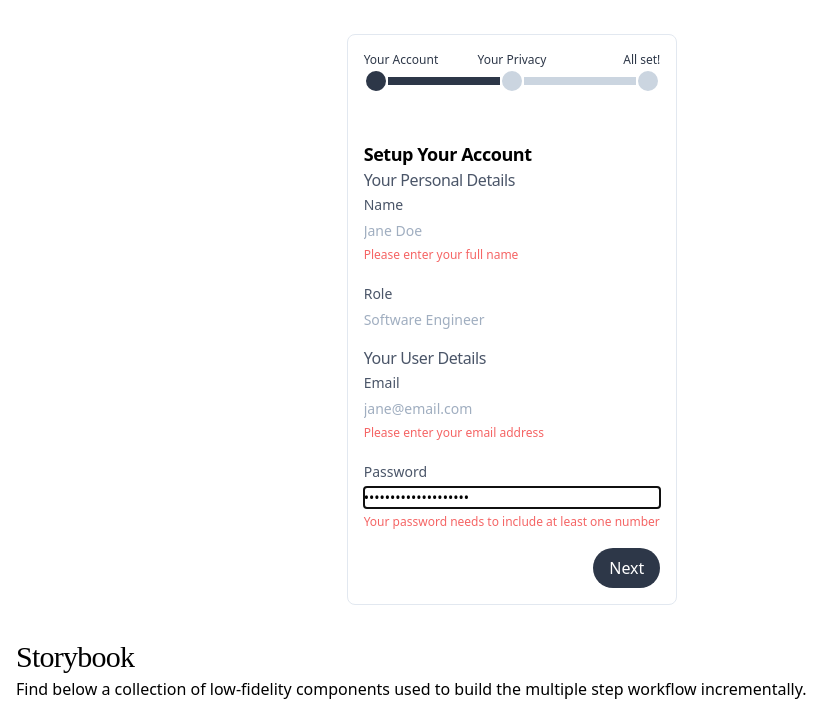
Signup Workflow › When the user provides invalid information › When they attempt to choose a password › that is missing at least one uppercase and one lowercase
(page scrolled)
Type "a very long password1" into the password field labelled "Password Your password needs to include at least one number".
click(513, 498); type("a very long password1")  # box [364, 487, 661, 508]
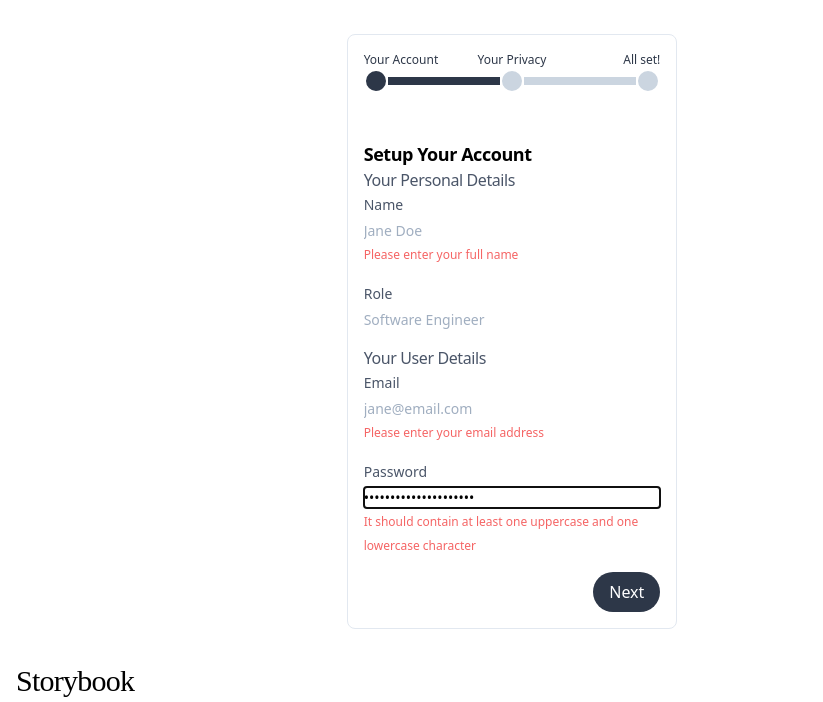
expect the text "It should contain at least one uppercase and one lowercase character" is shown: met, box [364, 513, 638, 554]
